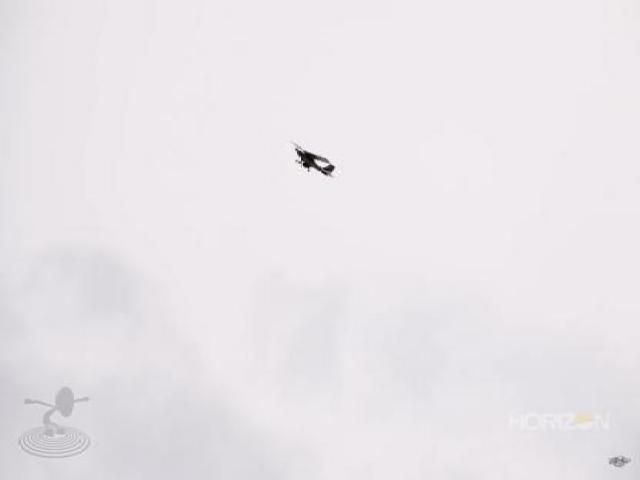uav: (288, 133, 338, 181)
